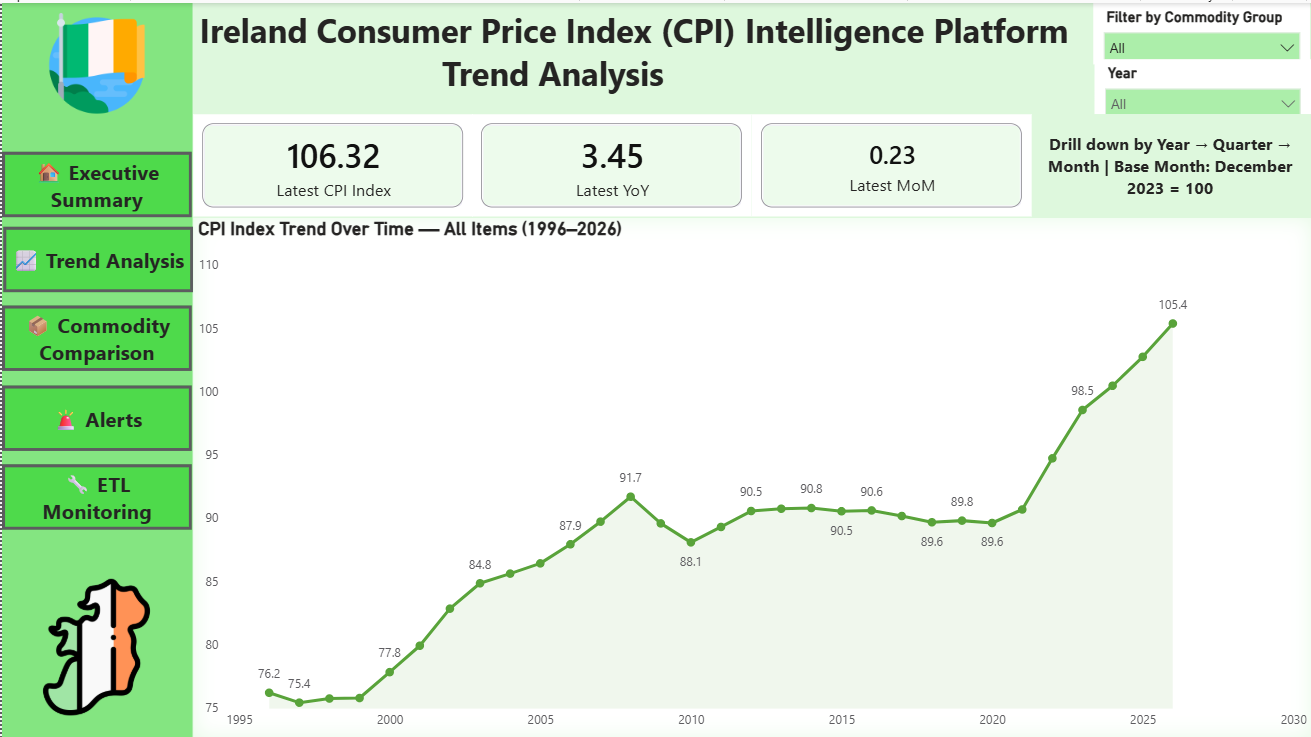

The dashboard page shown, as its layout file describes it:
{"tool":"powerbi","page":{"name":" Trend Analysis","canvas":[1280,720],"ordinal":1},"visuals":[{"type":"cardVisual","fields":{"Data":["ireland_cpi_db vw_cpi_monthly_summary.Latest CPI Index"]},"box":[186.7,108.9,273.3,100],"z":0},{"type":"cardVisual","fields":{"Data":["ireland_cpi_db vw_cpi_monthly_summary.Latest YoY"]},"box":[460,108.9,273.3,100],"z":1000},{"type":"lineChart","title":"CPI Index Trend Over Time — All Items (1996–2026)","fields":{"Category":["DateTable.Year","DateTable.Quarter","DateTable.Month Name"],"Y":["Avg(ireland_cpi_db vw_cpi_monthly_summary.index_value)"]},"box":[186.8,210.6,1094.4,508.9],"z":2000},{"type":"slicer","fields":{"Values":["ireland_cpi_db vw_cpi_monthly_summary.group_name"]},"box":[1068,0,212,60],"z":3000},{"type":"textbox","box":[0,0,1068.9,108.6],"z":4000},{"type":"cardVisual","fields":{"Data":["ireland_cpi_db vw_cpi_monthly_summary.Latest MoM"]},"box":[733.3,108.9,273.3,100],"z":5000},{"type":"textbox","box":[0,0,186.3,718.5],"z":6000},{"type":"image","box":[26,562,133.9,135.1],"z":7000},{"type":"actionButton","box":[0,145,185.8,64.2],"z":8000},{"type":"actionButton","box":[0.8,219.2,185.8,64.2],"z":9000},{"type":"actionButton","box":[0,295.8,185.8,64.2],"z":10000},{"type":"actionButton","box":[0,374.2,185.8,64.2],"z":11000},{"type":"actionButton","box":[0,450.8,185.8,64.2],"z":12000},{"type":"image","box":[26,10,134,98],"z":13000},{"type":"slicer","fields":{"Values":["DateTable.Year"]},"box":[1068.3,54.7,211.7,53.3],"z":14000},{"type":"textbox","box":[1007.6,121.1,270.2,86.8],"z":15000}]}

Visuals, with their boxes in screenshot pixels (x1, y1, x2, y2), scaled from the page's 1280x720 canvas onto the 1311x737 screenshot:
cardVisual - ireland_cpi_db vw_cpi_monthly_summary.Latest CPI Index: box(191, 111, 471, 214)
cardVisual - ireland_cpi_db vw_cpi_monthly_summary.Latest YoY: box(471, 111, 751, 214)
"CPI Index Trend Over Time — All Items (1996–2026)" lineChart: box(191, 216, 1310, 736)
slicer - ireland_cpi_db vw_cpi_monthly_summary.group_name: box(1094, 0, 1310, 61)
textbox: box(0, 0, 1095, 111)
cardVisual - ireland_cpi_db vw_cpi_monthly_summary.Latest MoM: box(751, 111, 1031, 214)
textbox: box(0, 0, 191, 735)
image: box(27, 575, 164, 714)
actionButton: box(0, 148, 190, 214)
actionButton: box(1, 224, 191, 290)
actionButton: box(0, 303, 190, 368)
actionButton: box(0, 383, 190, 449)
actionButton: box(0, 461, 190, 527)
image: box(27, 10, 164, 111)
slicer - DateTable.Year: box(1094, 56, 1310, 111)
textbox: box(1032, 124, 1309, 213)
